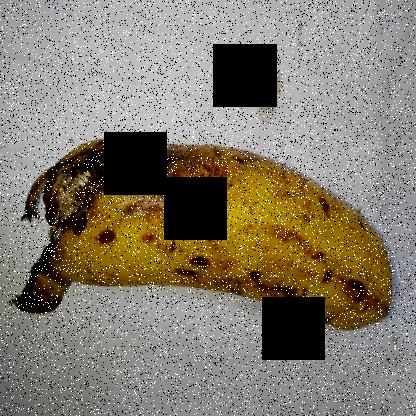ripe: (151, 103, 388, 367)
rotten: (9, 121, 171, 324)
